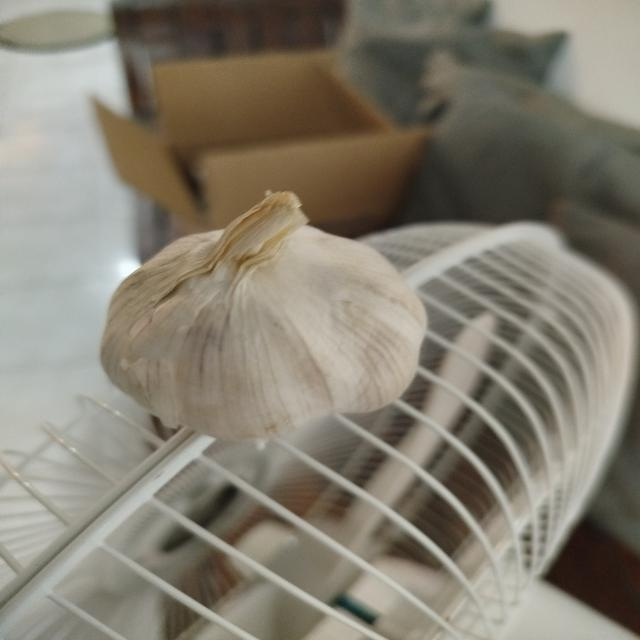garlic: (99, 189, 428, 448)
